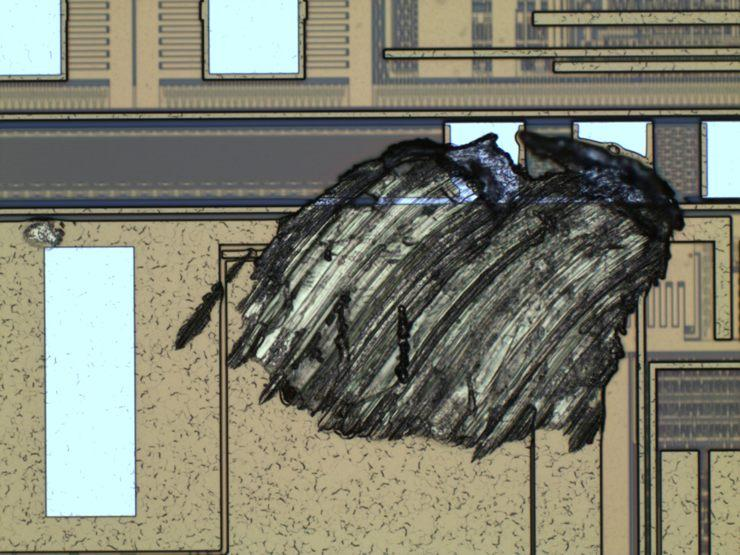SCRATCH: (167, 123, 691, 465)
